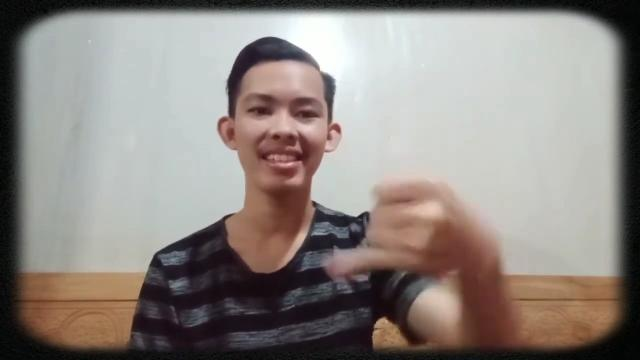J: (322, 178, 496, 284)
